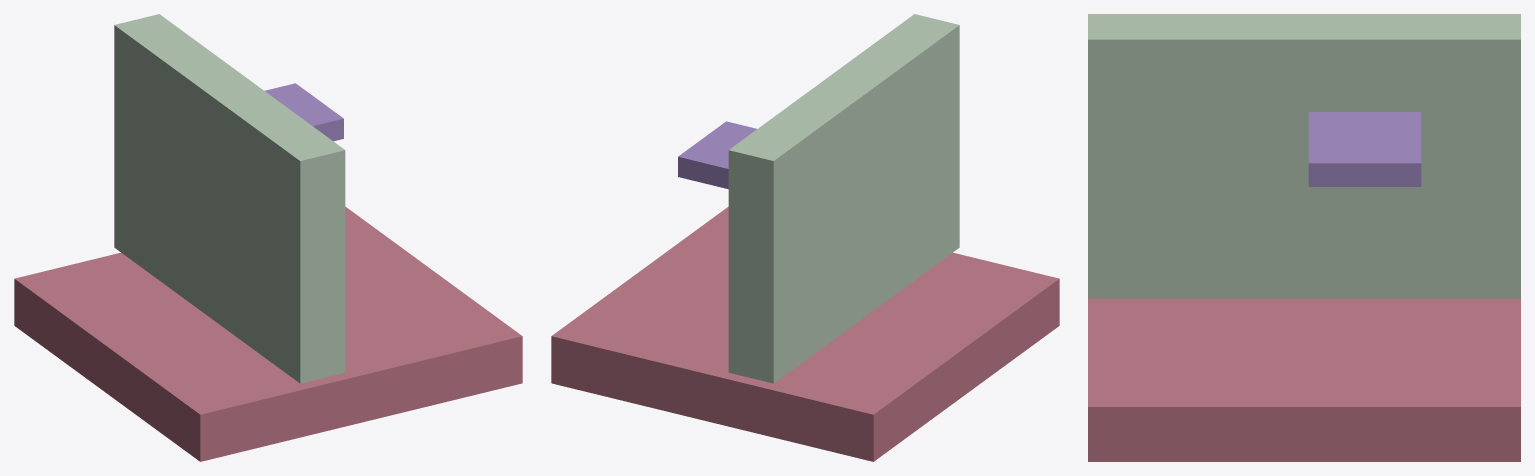
3 views of the same model, side by side, from view 1: azimuth 30°, elevation 25°; view 2: azimuth 150°, elevation 25°; view 3: azimuth 270°, elevation 25° (orthographic). The views are drawn at different scales.
Parts seen in each view (by area): view 1: world; view 2: world; view 3: world.
Part boxes in pixels (x1,y1,x2,y2): world: [14, 14, 522, 461]; world: [551, 14, 1059, 461]; world: [1088, 14, 1520, 461].
Size of the model in its own units: 5 by 4.1 by 5.
